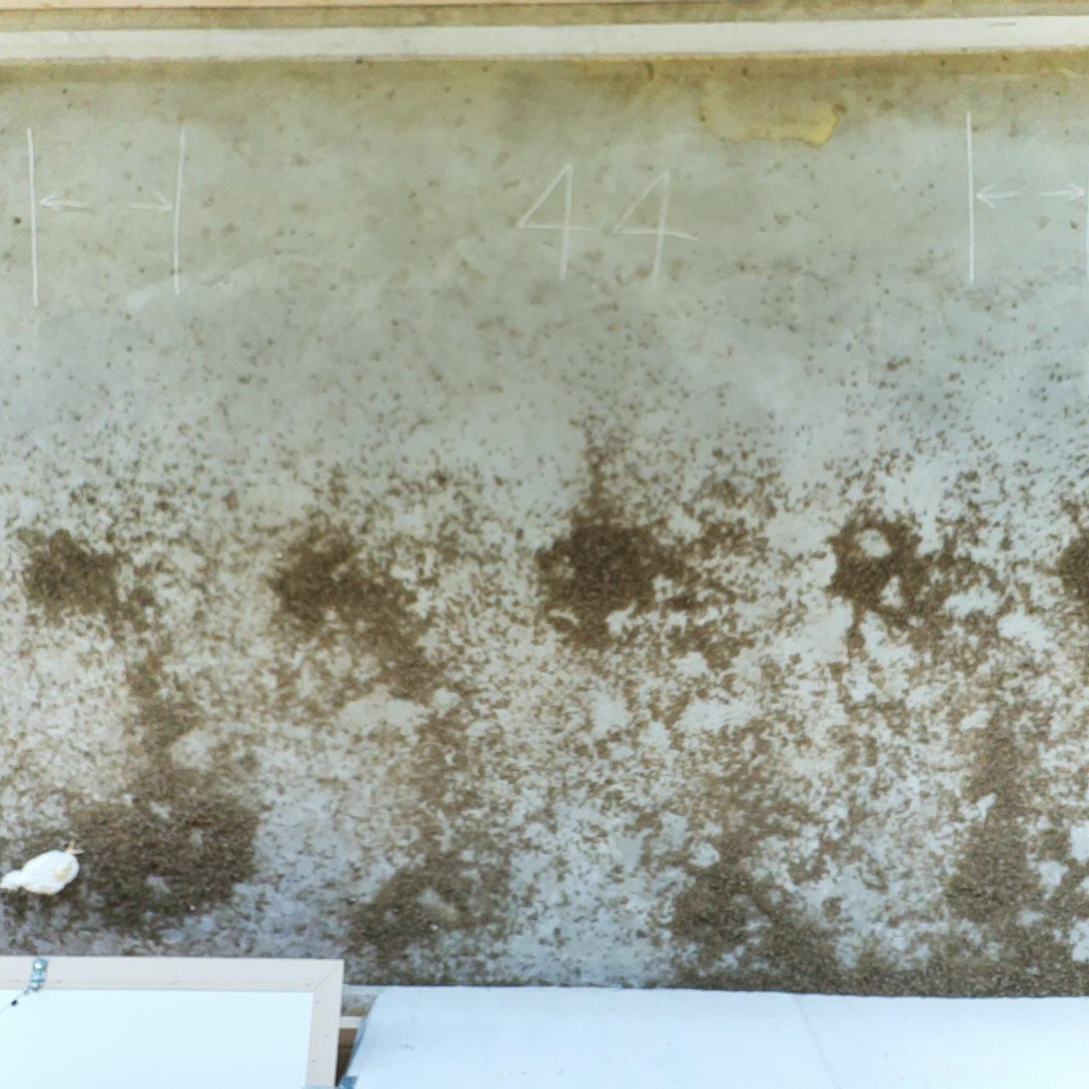chicken: (0, 831, 91, 907)
